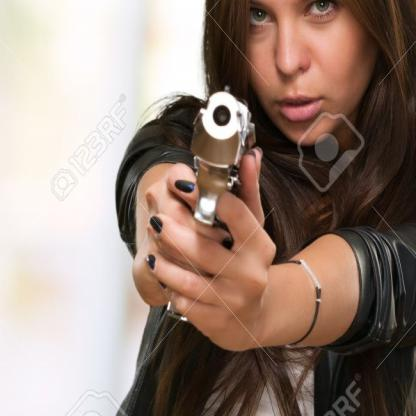gun: (152, 54, 256, 337)
